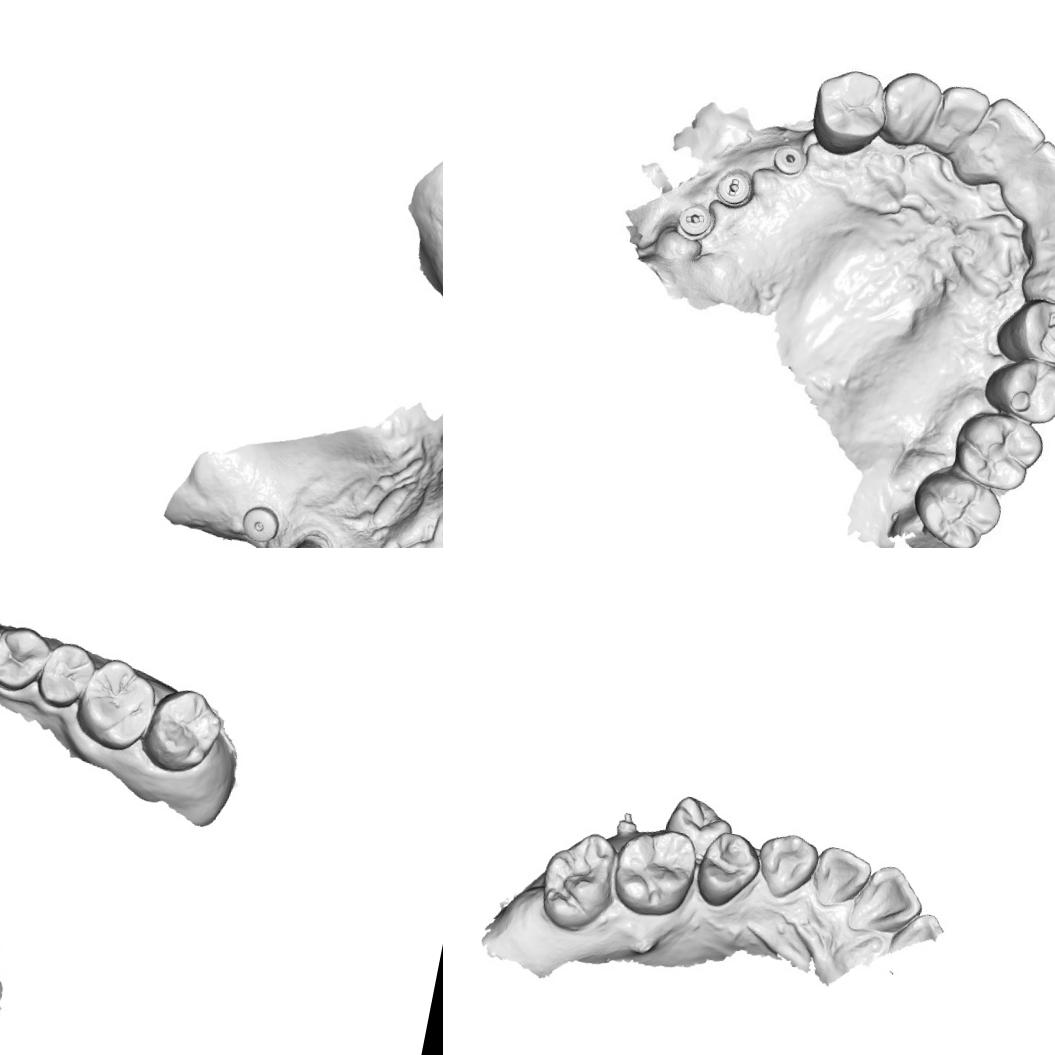canine: (872, 60, 947, 154), (752, 826, 821, 906), (1017, 243, 1055, 314)
crown: (262, 534, 324, 548)
implant: (765, 135, 809, 186), (238, 502, 284, 547)
implant_minus: (708, 160, 756, 216), (670, 198, 718, 245)
incisor: (958, 93, 1046, 185), (846, 856, 932, 944), (996, 131, 1055, 228), (925, 80, 991, 162), (805, 842, 873, 916), (1022, 190, 1055, 262)
molar: (530, 820, 624, 939), (606, 818, 703, 925), (69, 652, 163, 758), (949, 405, 1048, 497), (136, 681, 227, 781), (903, 465, 1002, 548)
premolar: (808, 64, 887, 160), (690, 825, 765, 912), (976, 353, 1055, 431), (987, 289, 1055, 373), (658, 790, 736, 863), (32, 638, 99, 714), (0, 621, 53, 698)
